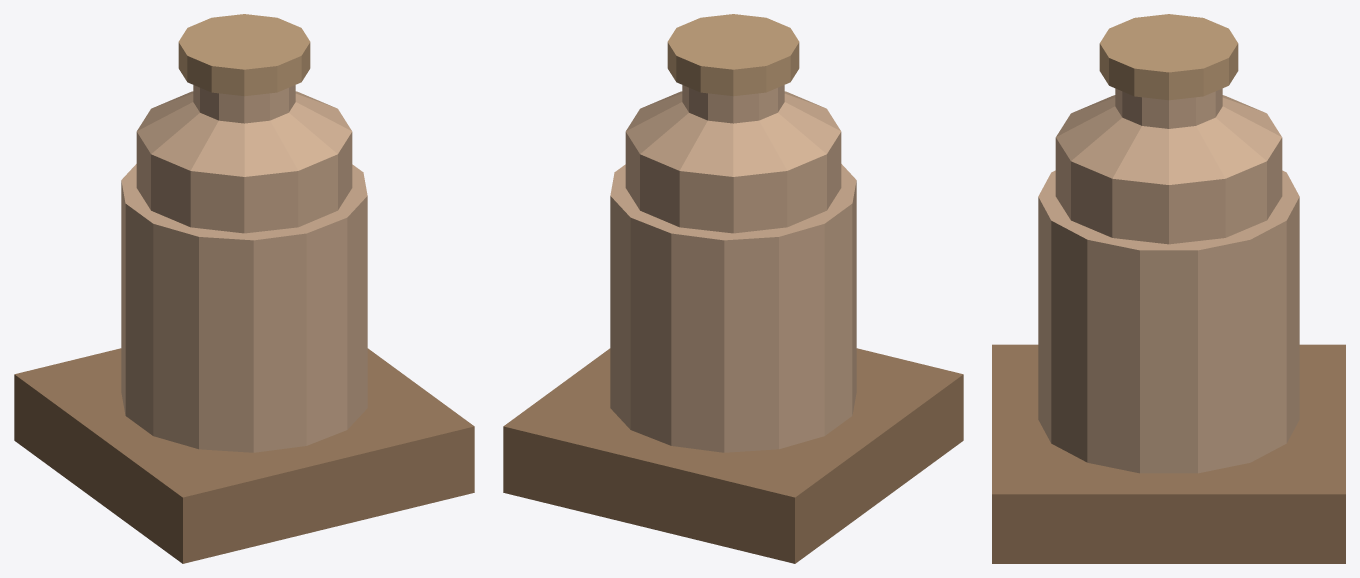
Rendered from urn.glb.
3 views of the same model, side by side, from view 1: azimuth 30°, elevation 25°; view 2: azimuth 150°, elevation 25°; view 3: azimuth 270°, elevation 25° (orthographic). The views are drawn at different scales.
Visible parts, largest first — view 1: urn; view 2: urn; view 3: urn.
Boxes of the visible parts, box(x1,y1,x2,y2) form: urn: box(14, 14, 474, 563); urn: box(503, 14, 963, 563); urn: box(992, 14, 1345, 563).
Bounding box in the file's own units: 0.46 × 0.64 × 0.46.
